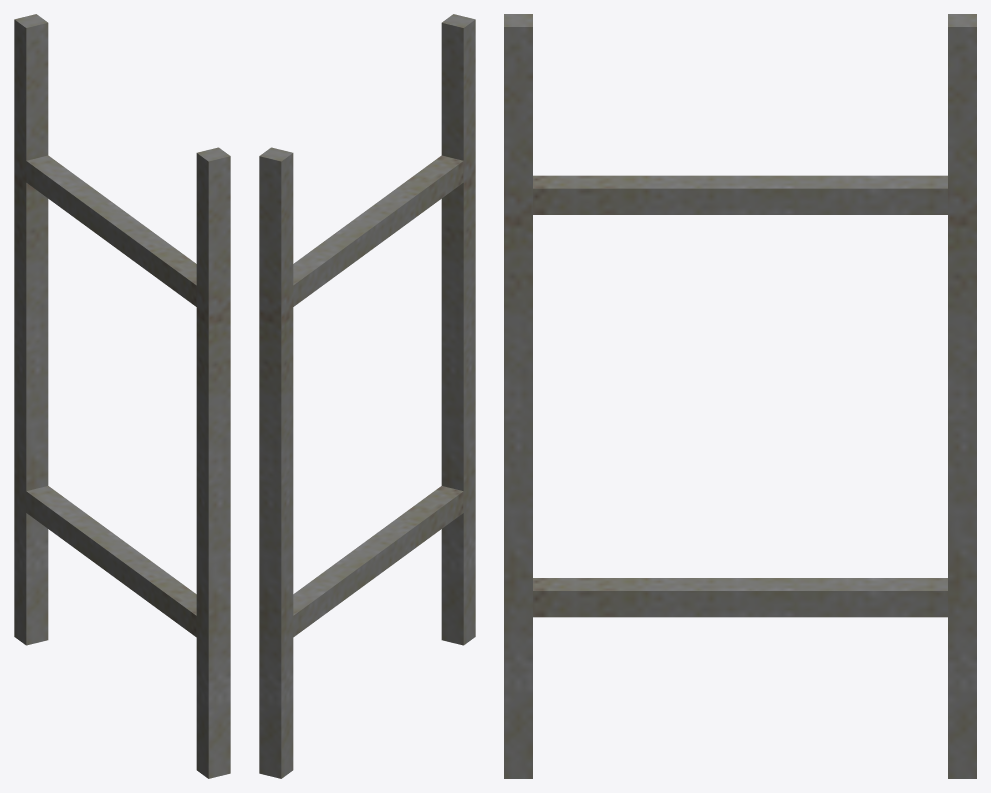
File: mWFrame01Concrete01.obj
The picture shows the model from 3 angles, left to right: view 1: azimuth 30°, elevation 25°; view 2: azimuth 150°, elevation 25°; view 3: azimuth 270°, elevation 25°; orthographic projection. The views are drawn at different scales.
Parts seen in each view (by area): view 1: WFrame01Concrete01; view 2: WFrame01Concrete01; view 3: WFrame01Concrete01.
Boxes of the visible parts, x1,y1,x2,y2 form: WFrame01Concrete01: [14, 14, 230, 778]; WFrame01Concrete01: [259, 14, 475, 778]; WFrame01Concrete01: [504, 14, 976, 778].
Bounding box in the file's own units: 0.15 × 4 × 2.28.
